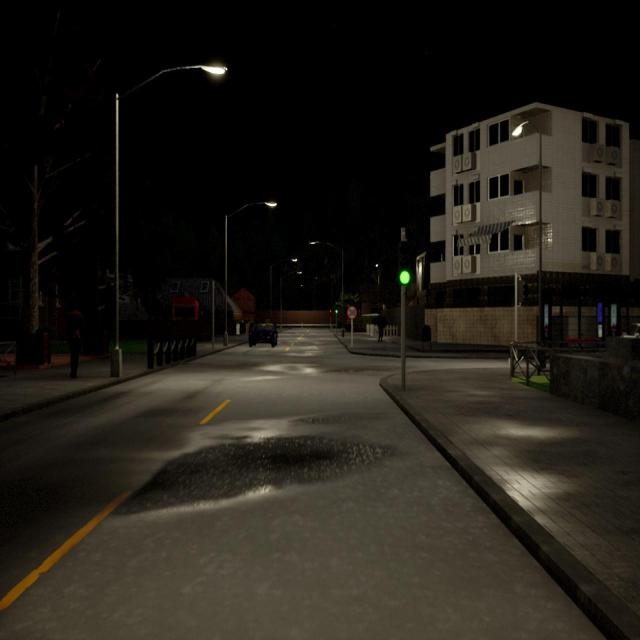Pedestrian: (66, 304, 84, 378), (376, 312, 386, 344)
Traffic_Signs: (348, 306, 357, 320)
Vehicle: (250, 323, 278, 347)
traffic_light: (398, 242, 411, 286), (517, 280, 525, 302), (335, 305, 338, 314), (329, 309, 332, 316)
